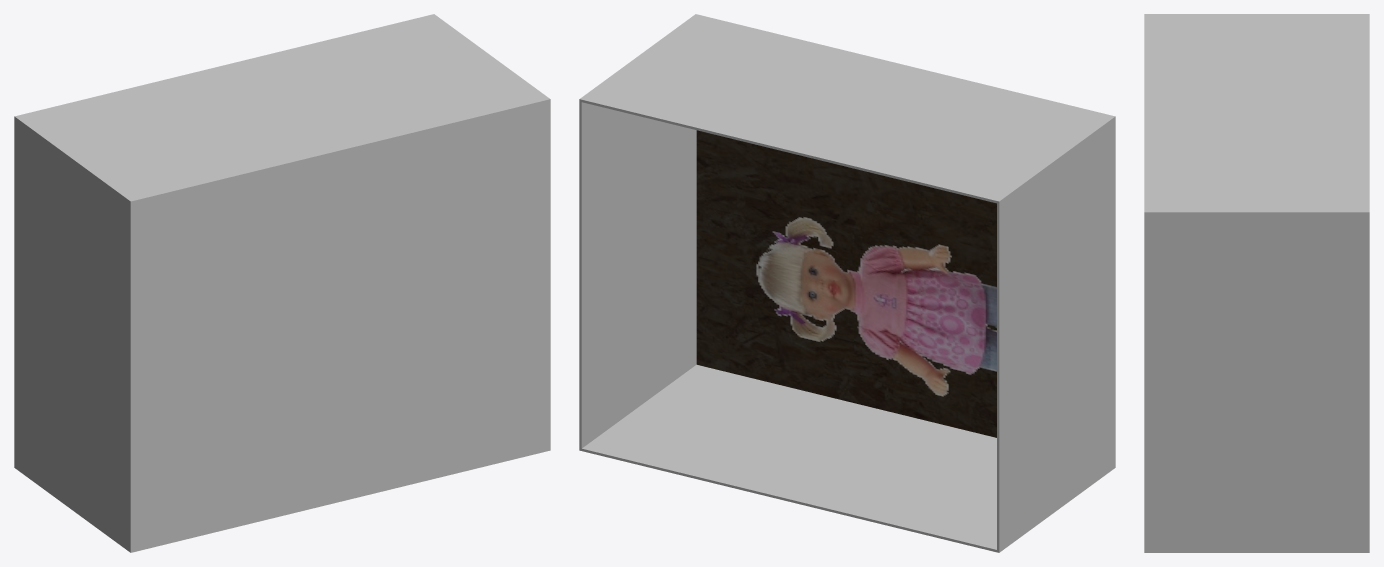
Rendered from victim_with_box_v.dae.
3 renders of one model, left to right at view 1: azimuth 30°, elevation 25°; view 2: azimuth 150°, elevation 25°; view 3: azimuth 270°, elevation 25°, orthographic. The views are drawn at different scales.
Parts seen in each view (by area): view 1: Cube; view 2: Cube; view 3: Cube.
Boxes of the visible parts, x1,y1,x2,y2 form: Cube: (14,14,550,552); Cube: (579,14,1115,552); Cube: (1144,14,1369,552).
Size of the model in its own units: 0.5 by 0.24 by 0.4.
